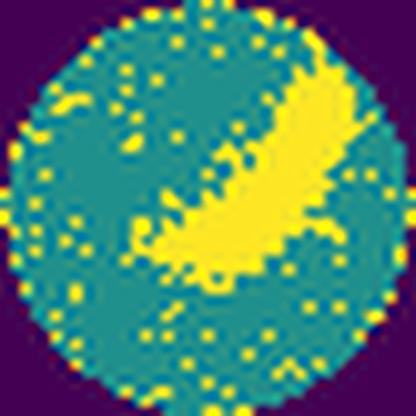Edge-Loc: (121, 45, 367, 293)
